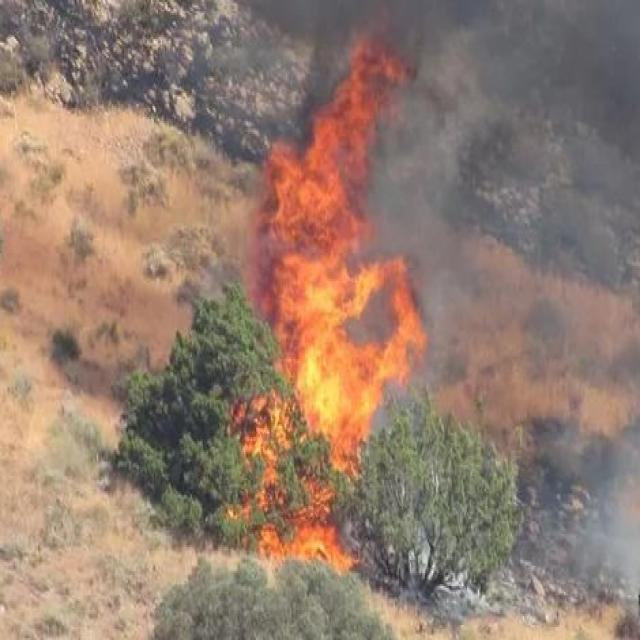Fire: (238, 77, 402, 565)
Smoke: (322, 11, 612, 480)
